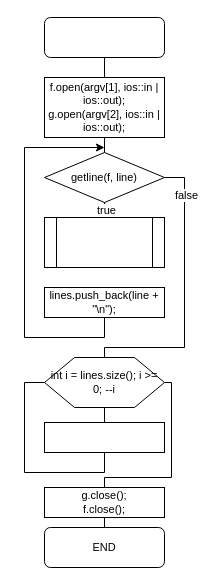
The diagram is 215 pixels wide and 585 high, and some of its shapes have lost their labels. Here are the shapes that lost their labels. From the top down, the centre of each, then its label:
At (104,37): "BEGIN".
At (104,242): "reverse(line.begin(), line.end());".
At (104,437): "g << lines[i];".
